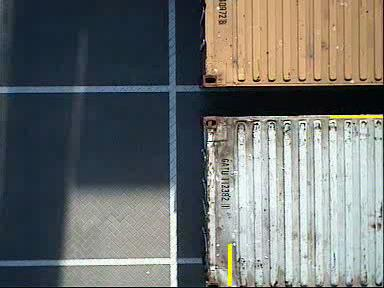groundmarker_2: (57, 123, 217, 248)
